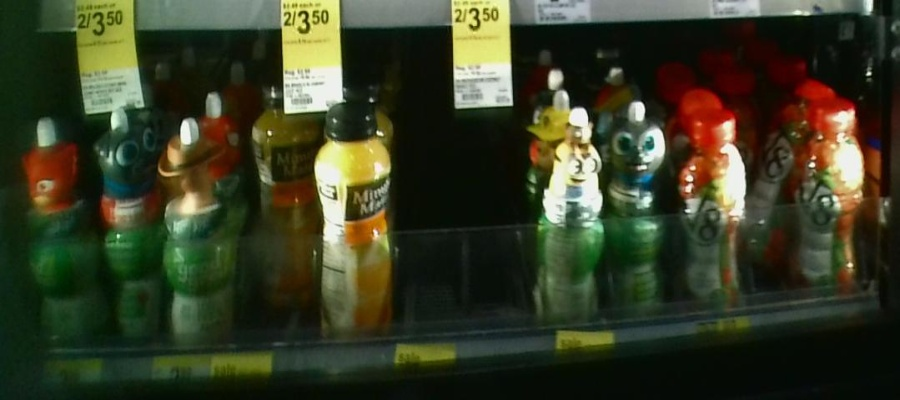bottle: (158, 117, 238, 353), (16, 112, 93, 348), (319, 98, 394, 334), (671, 108, 750, 316), (247, 78, 315, 308), (537, 105, 605, 325), (95, 108, 157, 348), (793, 96, 865, 295), (610, 100, 668, 318), (752, 123, 789, 274)
